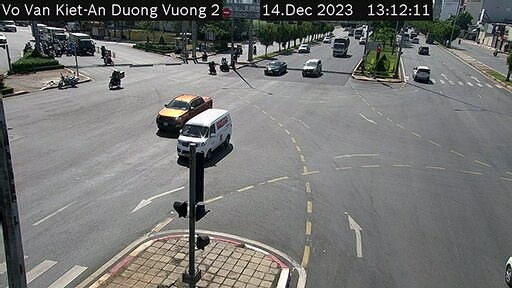car: (185, 105, 237, 158), (154, 86, 213, 123), (267, 58, 291, 78), (413, 62, 430, 85), (304, 57, 320, 79), (300, 39, 314, 54), (420, 46, 431, 55)
motorbike: (105, 68, 125, 91), (220, 56, 233, 72), (206, 58, 216, 77)
truck: (69, 34, 98, 54), (331, 38, 347, 56)
